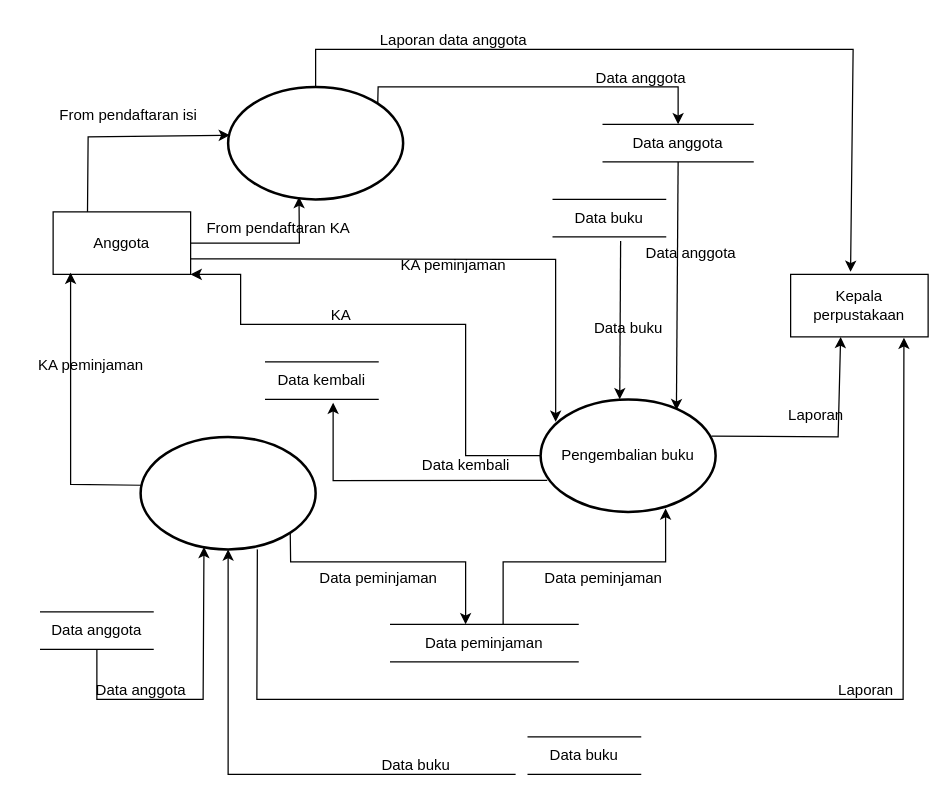
The diagram is 950 pixels wide and 806 high, and some of its shapes have lost their labels. Here are the shapes that lost their labels. From the top down, the centre of each, then its label:
At [315,142]: "Pendaftaran".
At [227,492]: "Peminjaman buku".
